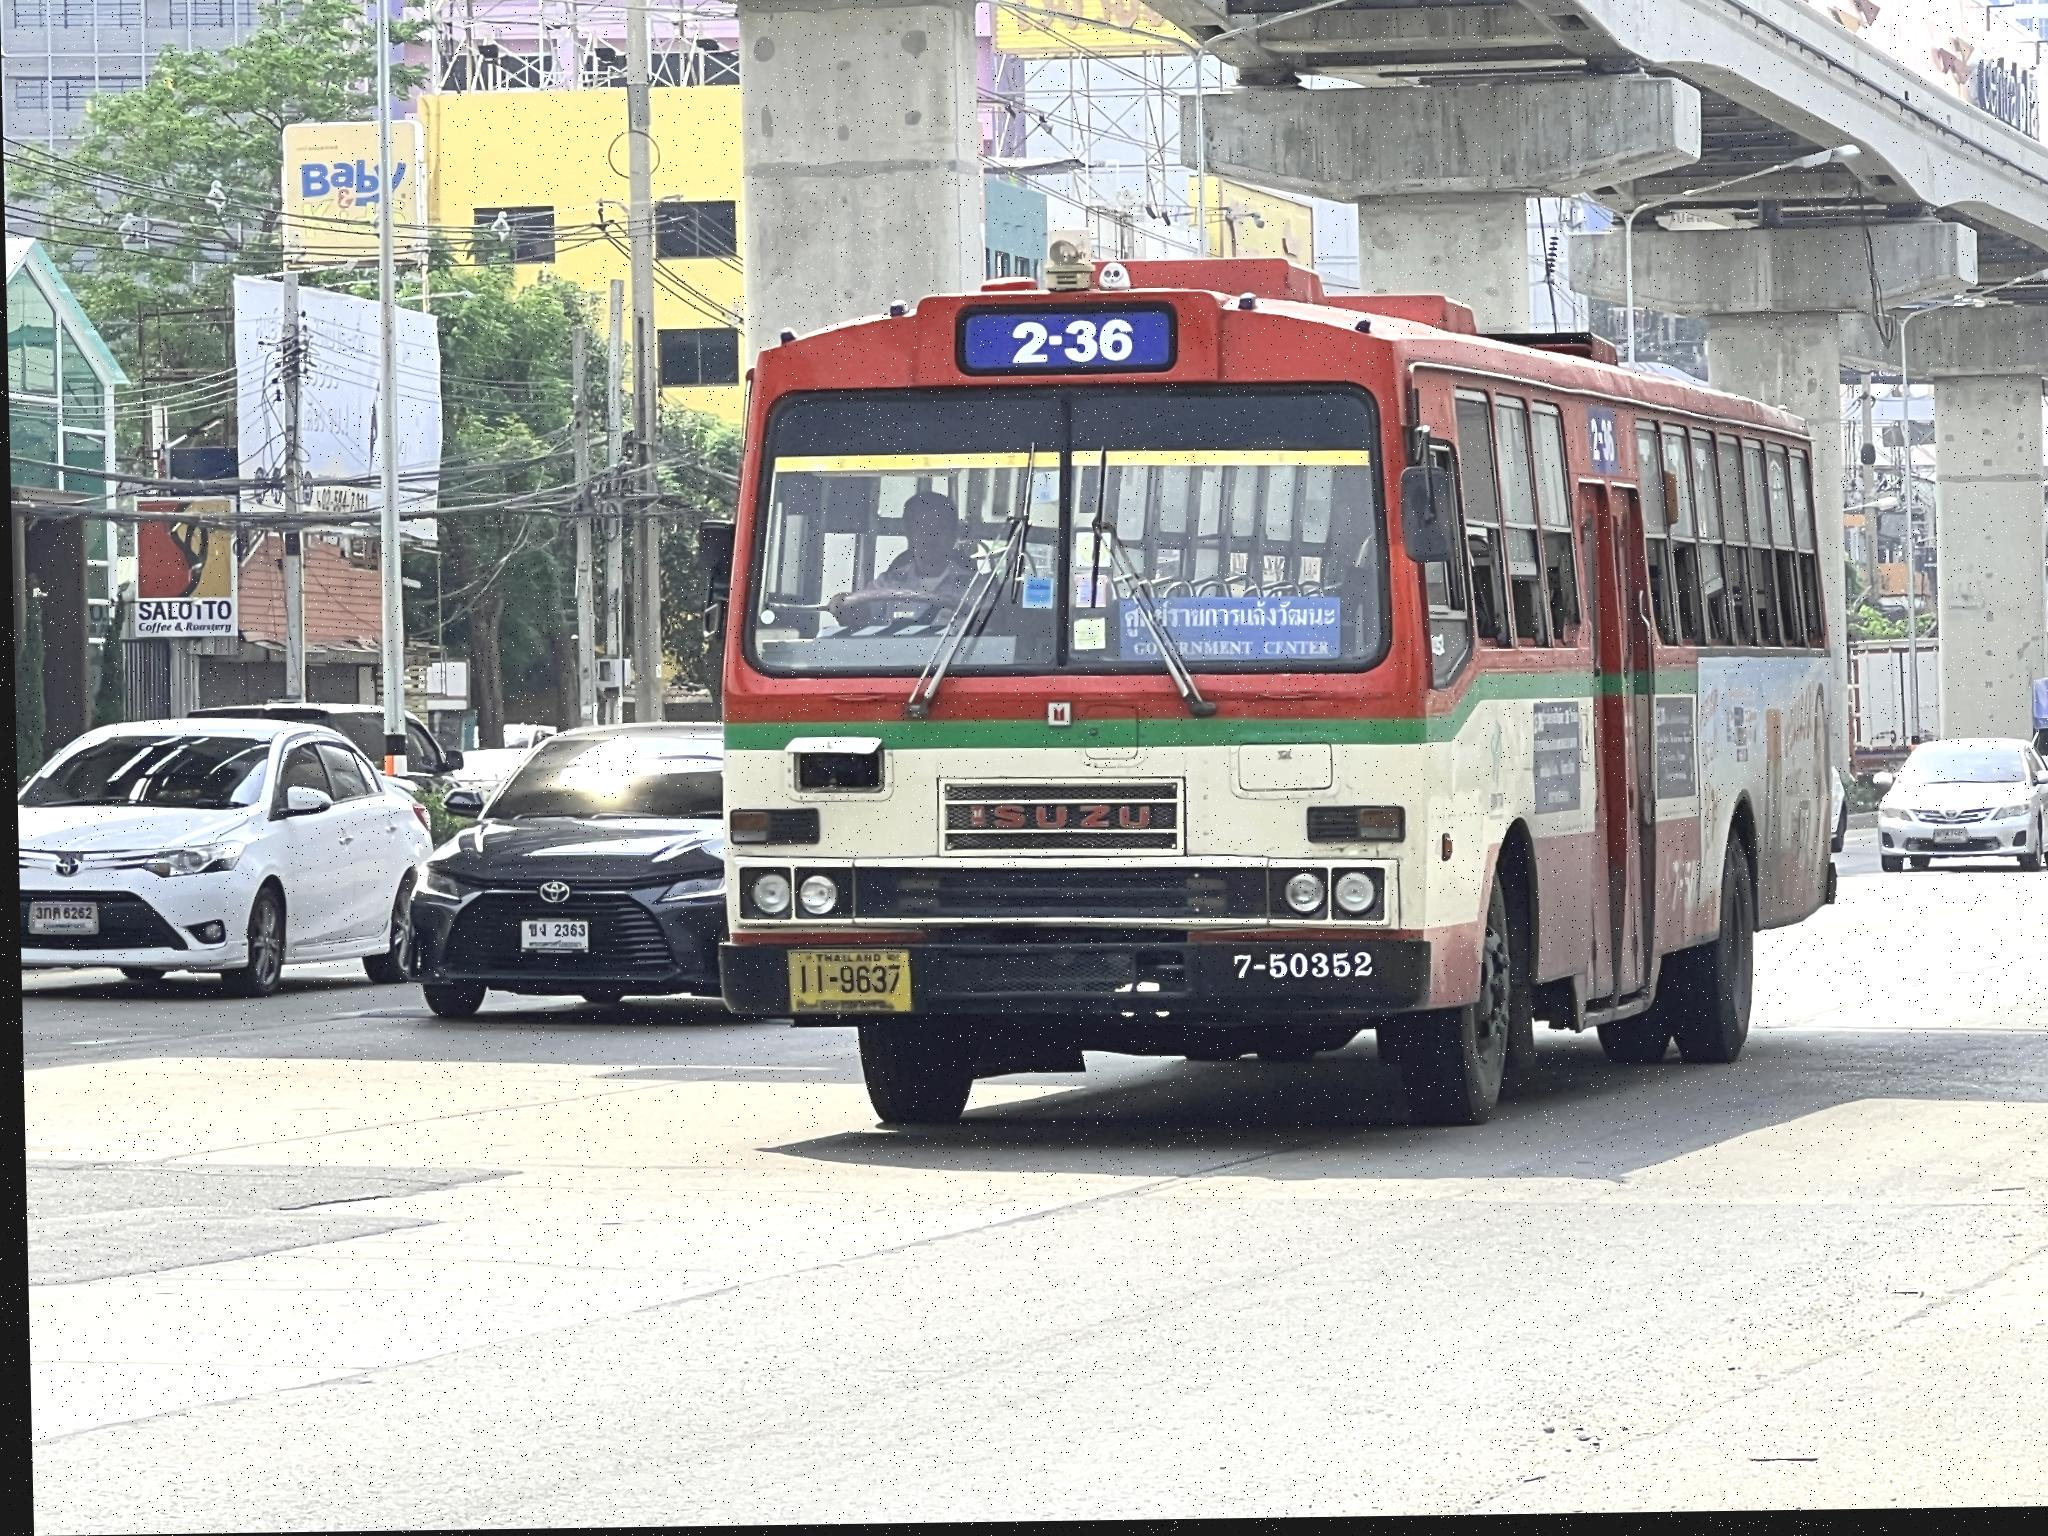BMTA-bus: (711, 266, 1851, 1136)
Bus Line Number: (953, 305, 1182, 386)
Bus Side Number: (1219, 950, 1377, 989)
Destination Sign: (1113, 594, 1343, 674)
